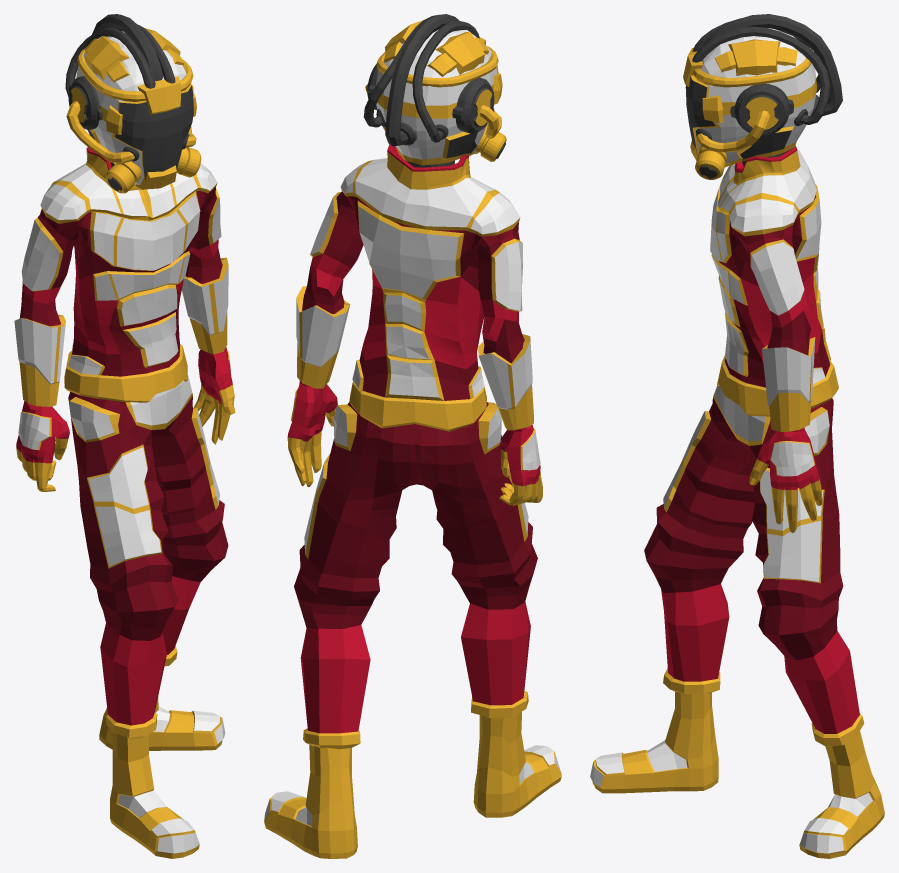
The model's file is av-piloto-kart.glb.
3 views of the same model, side by side, from view 1: azimuth 30°, elevation 25°; view 2: azimuth 150°, elevation 25°; view 3: azimuth 270°, elevation 25° (orthographic). The views are drawn at different scales.
Visible parts, largest first — view 1: SpaceSuit_Body; view 2: SpaceSuit_Body; view 3: SpaceSuit_Body.
Boxes of the visible parts, x1,y1,x2,y2 form: SpaceSuit_Body: (14, 14, 235, 858); SpaceSuit_Body: (264, 14, 561, 858); SpaceSuit_Body: (590, 14, 884, 858).
Bounding box in the file's own units: 0.5752 × 1.85 × 0.6304.
